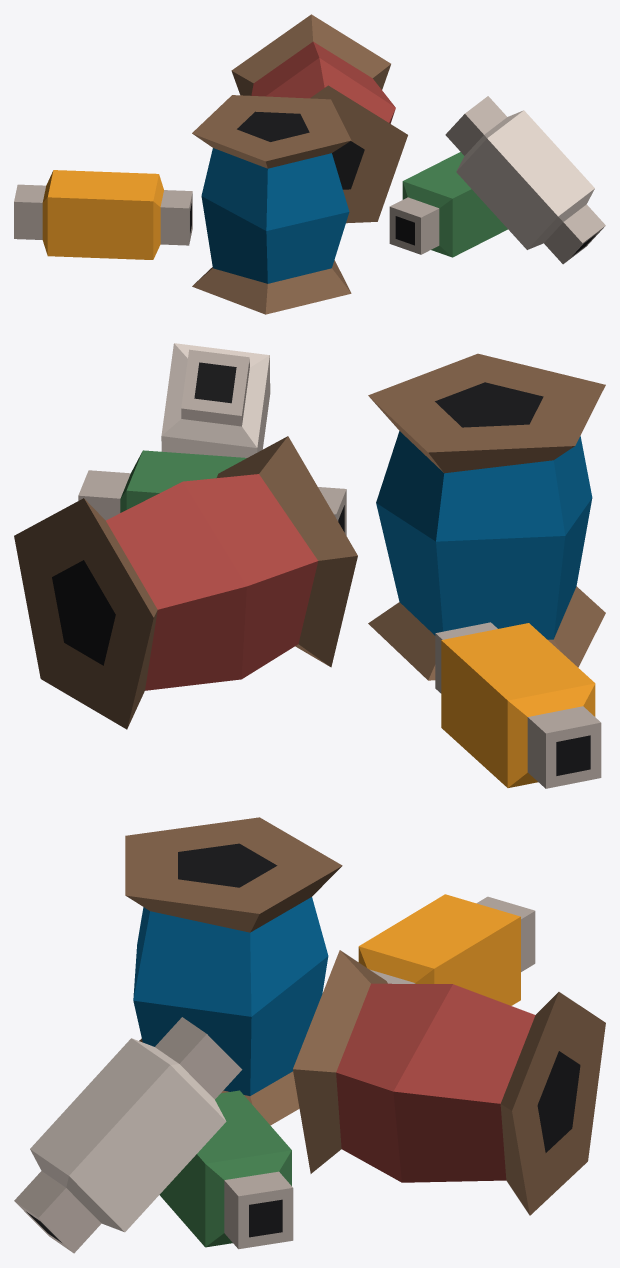
Rendered from SM_Sewing_Threads.fbx.
3 views of the same model, one above another, from view 1: azimuth 30°, elevation 25°; view 2: azimuth 150°, elevation 25°; view 3: azimuth 270°, elevation 25° (orthographic). The views are drawn at different scales.
Visible parts, largest first — view 1: SM_Sewing_Threads; view 2: SM_Sewing_Threads; view 3: SM_Sewing_Threads.
Boxes of the visible parts, <box> form: SM_Sewing_Threads: <box>14,14,605,314</box>; SM_Sewing_Threads: <box>14,343,605,788</box>; SM_Sewing_Threads: <box>14,817,605,1253</box>.
Size of the model in its own units: 26.03 by 8.78 by 21.61.
